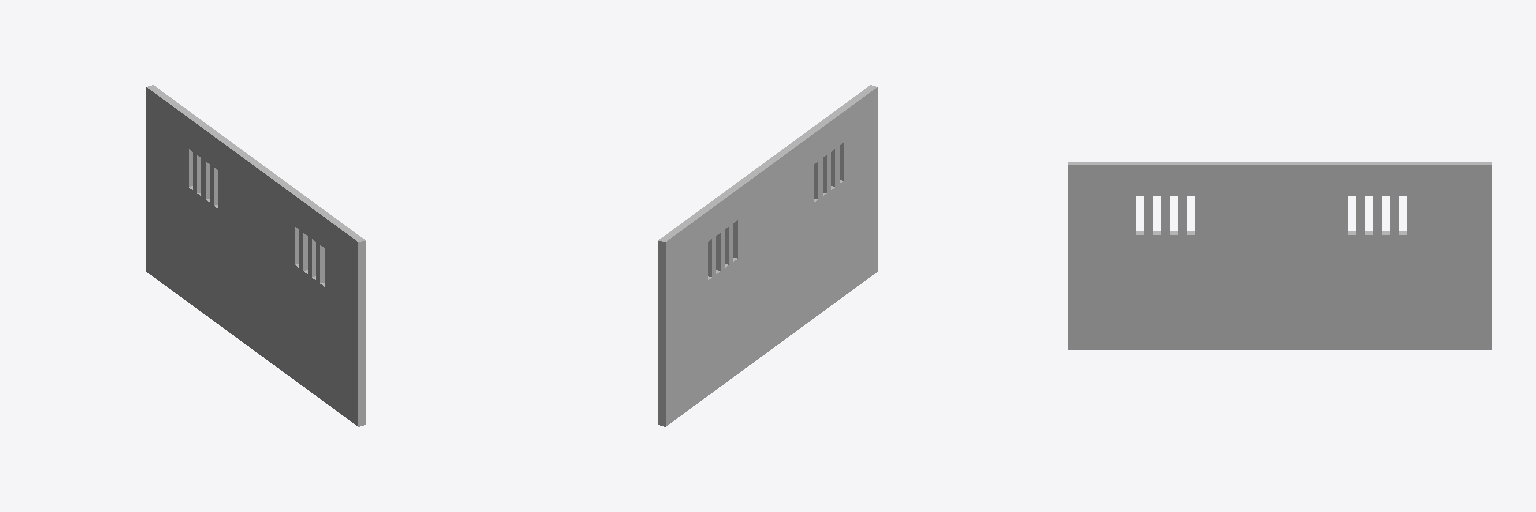
File: Cell_Block_Menu_window wall.obj
3 renders of one model, left to right at view 1: azimuth 30°, elevation 25°; view 2: azimuth 150°, elevation 25°; view 3: azimuth 270°, elevation 25°, orthographic.
Size of the model in its own units: 1 by 24 by 50.